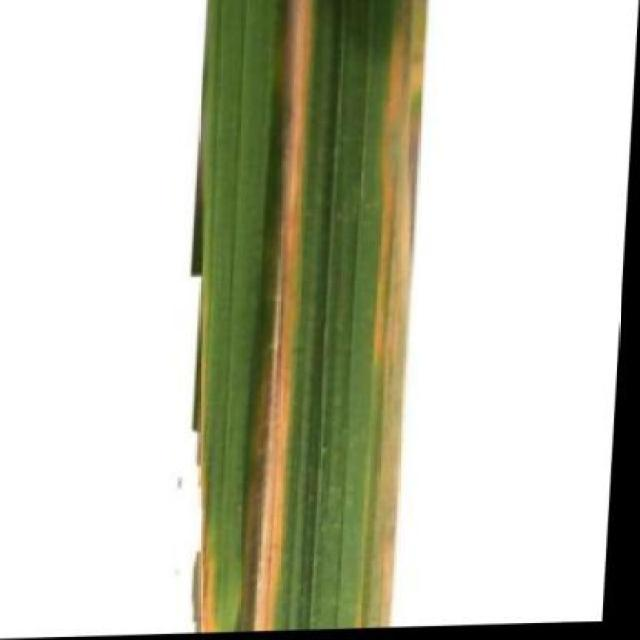Brown_Spot: (168, 0, 433, 635)
